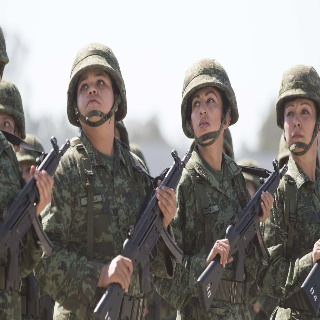rifle: (94, 150, 183, 320), (199, 156, 288, 320), (1, 135, 71, 293)
